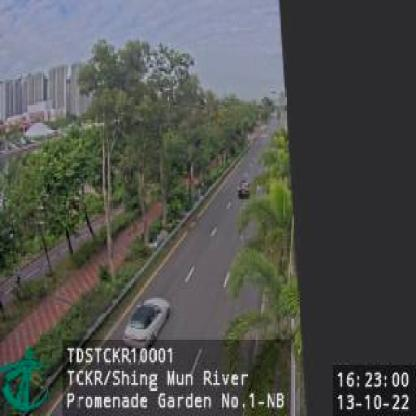Car: (122, 295, 174, 346), (238, 176, 253, 200)
